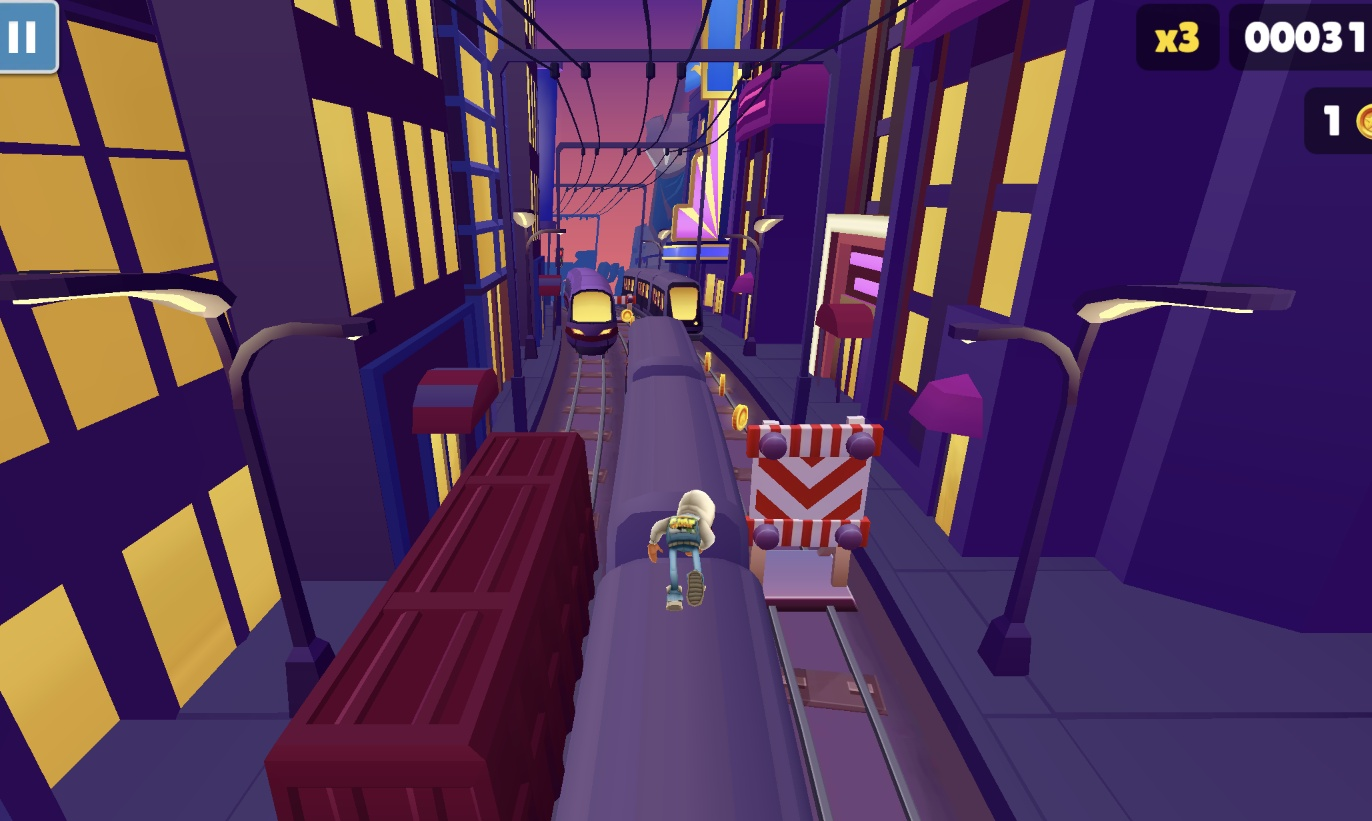ground_barrier: (617, 291, 645, 322)
overhead_barrier: (735, 419, 886, 616)
train: (546, 316, 824, 821), (248, 432, 601, 821), (623, 272, 708, 342), (561, 271, 621, 358)
